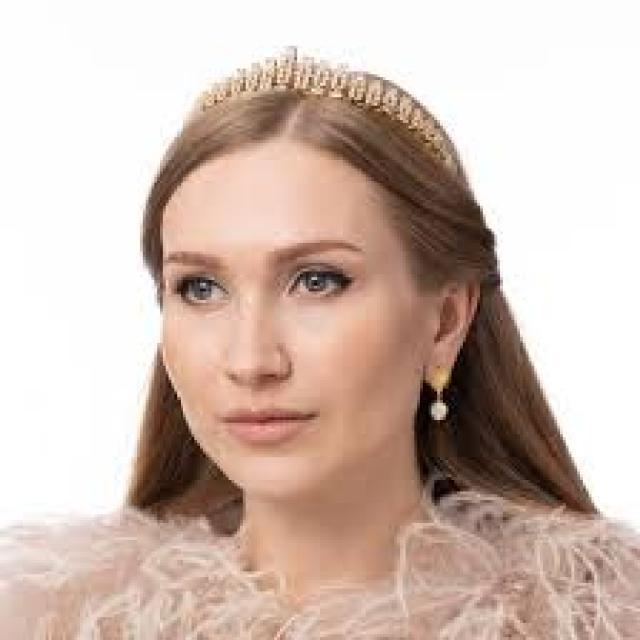Earring: (416, 351, 454, 433)
